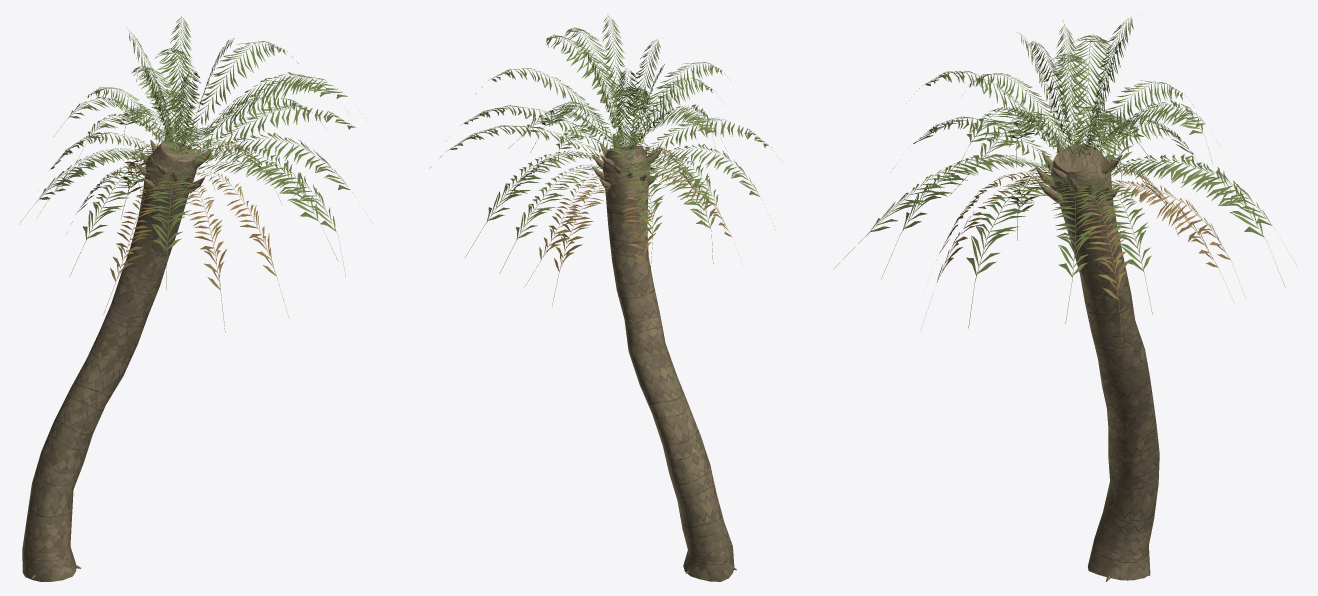
Rendered from palm-2.glb.
The picture shows the model from 3 angles, left to right: view 1: azimuth 30°, elevation 25°; view 2: azimuth 150°, elevation 25°; view 3: azimuth 270°, elevation 25°; orthographic projection. The views are drawn at different scales.
Parts seen in each view (by area): view 1: 海枣棕榈 · 斜干偏冠 LOD0; view 2: 海枣棕榈 · 斜干偏冠 LOD0; view 3: 海枣棕榈 · 斜干偏冠 LOD0.
Boxes of the visible parts, left/top/right/bottom form: 海枣棕榈 · 斜干偏冠 LOD0: left=20, top=16, right=355, bottom=581; 海枣棕榈 · 斜干偏冠 LOD0: left=429, top=14, right=775, bottom=581; 海枣棕榈 · 斜干偏冠 LOD0: left=834, top=17, right=1296, bottom=581.
Bounding box in the file's own units: 8.13 × 12 × 8.48.
Materials: 2 (2 with a texture image).
